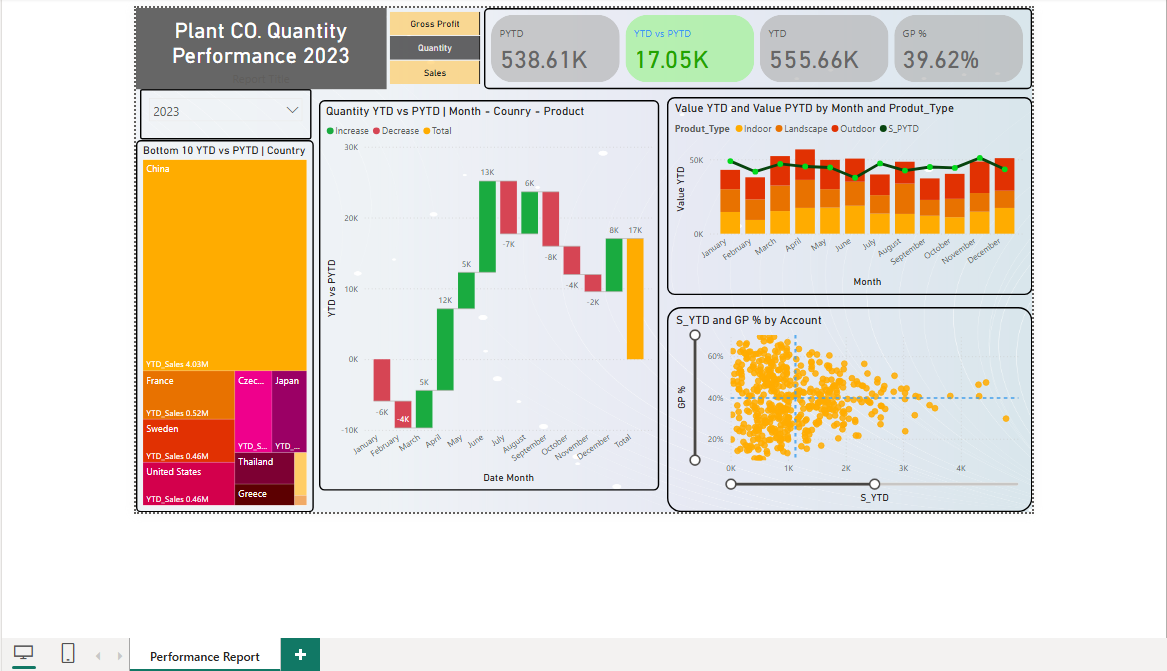

The page's visual inventory and layout, read from the dashboard file:
{"tool":"powerbi","page":{"name":"Performance Report","canvas":[1280,720],"ordinal":0},"visuals":[{"type":"cardVisual","fields":{"Data":["_Measures.S_PYTD","_Measures.YTD vs PYTD","_Measures.S_YTD","_Measures.GP %"]},"box":[497.8,0,782.7,116.2],"z":0},{"type":"slicer","fields":{"Values":["Dim_Date.Date.Variation.Date Hierarchy.Year"]},"box":[5.1,115.7,245.5,72],"z":1000},{"type":"advancedSlicerVisual","fields":{"Values":["Slc_Values.Values"]},"box":[357.7,0,140.1,116.2],"z":2000},{"type":"treemap","title":"Bottom 10 YTD vs PYTD | Country","fields":{"Values":["_Measures.YTD_Sales","_Measures.YTD vs PYTD"],"Group":["Dim_Account.country"]},"box":[0,188,254.1,532],"z":3000},{"type":"waterfallChart","fields":{"Y":["_Measures.YTD vs PYTD"],"Category":["Dim_Date.Date.Variation.Date Hierarchy.Month","Dim_Account.country","Dim_Product.Produt_Type","Dim_Product.Product_Name"]},"box":[262,131,486.5,558.2],"z":4000},{"type":"lineStackedColumnComboChart","title":"Value YTD and Value PYTD by Month and Produt_Type","fields":{"Y":["_Measures.S_YTD"],"Category":["Dim_Date.Date.Variation.Date Hierarchy.Quarter","Dim_Date.Date.Variation.Date Hierarchy.Month"],"Y2":["_Measures.S_PYTD"],"Series":["Dim_Product.Produt_Type"]},"box":[758.7,127.6,521.8,282.5],"z":5000},{"type":"scatterChart","fields":{"Y":["_Measures.GP %"],"X":["_Measures.S_YTD"],"Category":["Dim_Account.Account"]},"box":[758.7,427.2,521.8,292.8],"z":6000},{"type":"card","fields":{"Values":["_Measures.Report Title"]},"box":[0,0,357.7,116.2],"z":7000}]}

Visuals, with their boxes on the page's 1280x720 design canvas (x1, y1, x2, y2). These are canvas units, not pixel positions in the 1167x671 screenshot, which may show the page scaled, cropped or inside an application window:
cardVisual - _Measures.S_PYTD x _Measures.YTD vs PYTD: [x1=498, y1=0, x2=1280, y2=116]
slicer - Dim_Date.Date.Variation.Date Hierarchy.Year: [x1=5, y1=116, x2=251, y2=188]
advancedSlicerVisual - Slc_Values.Values: [x1=358, y1=0, x2=498, y2=116]
"Bottom 10 YTD vs PYTD | Country" treemap: [x1=0, y1=188, x2=254, y2=720]
waterfallChart - _Measures.YTD vs PYTD x Dim_Date.Date.Variation.Date Hierarchy.Month: [x1=262, y1=131, x2=748, y2=689]
"Value YTD and Value PYTD by Month and Produt_Type" lineStackedColumnComboChart: [x1=759, y1=128, x2=1280, y2=410]
scatterChart - _Measures.GP % x _Measures.S_YTD: [x1=759, y1=427, x2=1280, y2=720]
card - _Measures.Report Title: [x1=0, y1=0, x2=358, y2=116]
